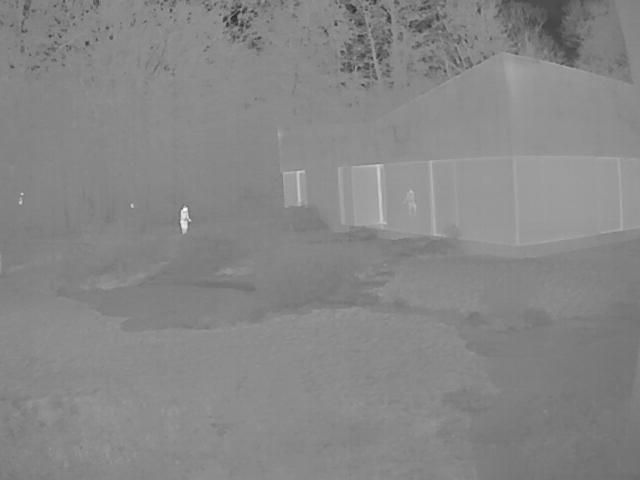person: (405, 188, 418, 219), (182, 205, 193, 233)
